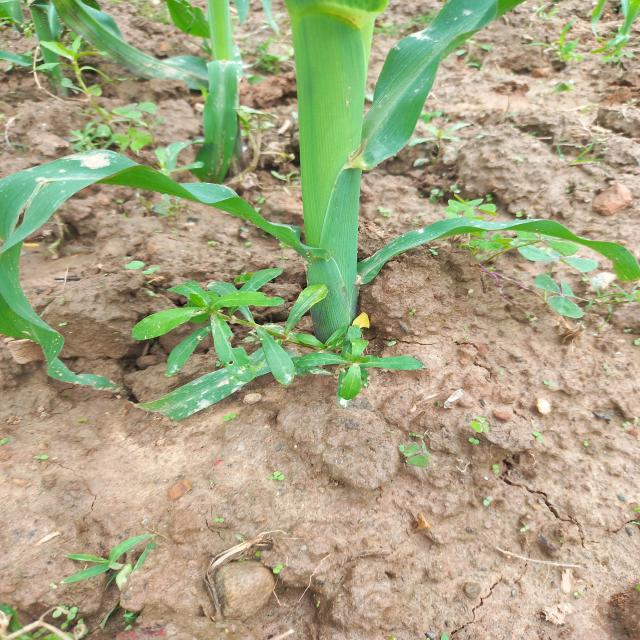maize: (27, 145, 640, 257), (235, 0, 450, 301), (0, 155, 117, 376), (0, 0, 269, 85)
weed: (160, 282, 307, 406), (56, 526, 186, 620), (516, 240, 632, 309), (76, 114, 186, 146), (328, 346, 397, 386)
